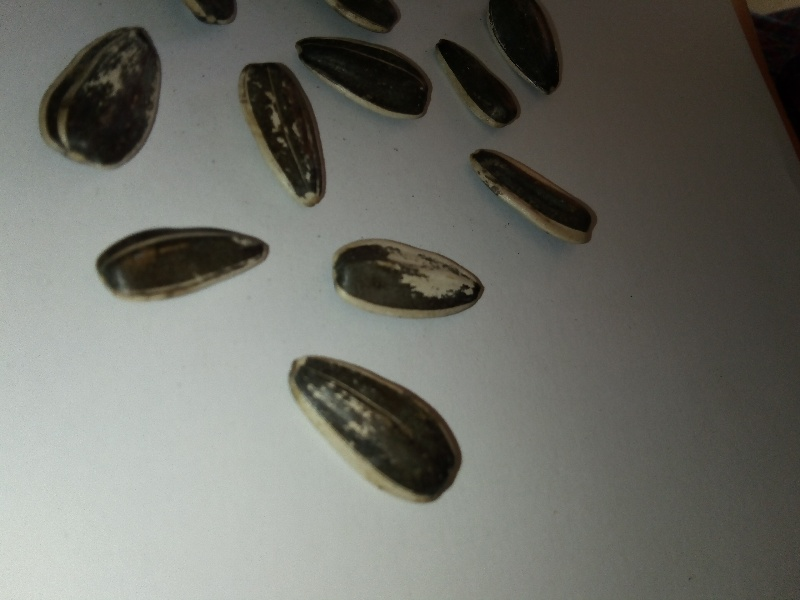w: (269, 342, 470, 515), (32, 21, 176, 178), (321, 230, 498, 324), (88, 223, 280, 309), (460, 141, 602, 256)
